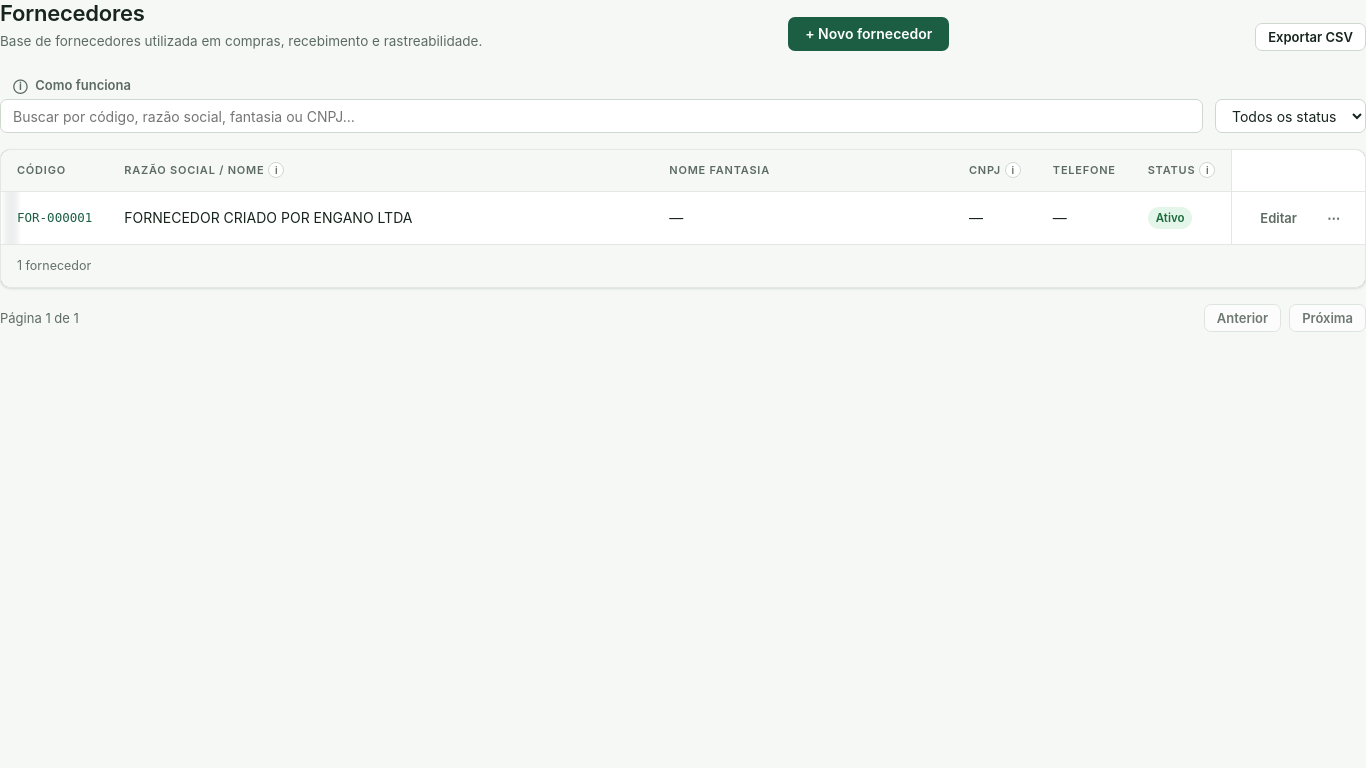
Test: Administrador › bloqueado: mostra o porquê e a saída abre o Inativar de sempre
expect the text "FOR-000001" is shown: met, box [1,192,108,244]
Click the button named "Mais ações de FOR-000001" at (1334, 218), box [1318,204,1349,232]
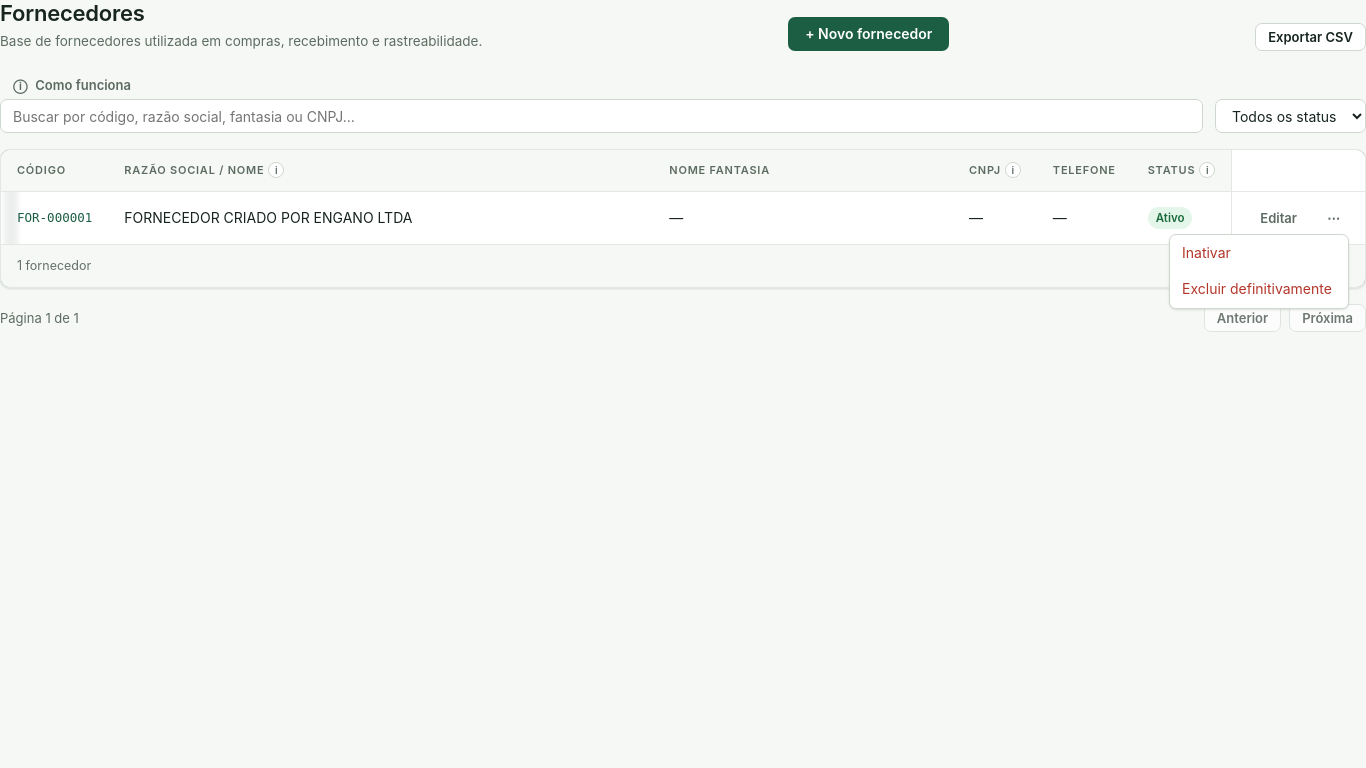
Click the menu item "Excluir definitivamente" at (1259, 289), box [1170,271,1348,308]
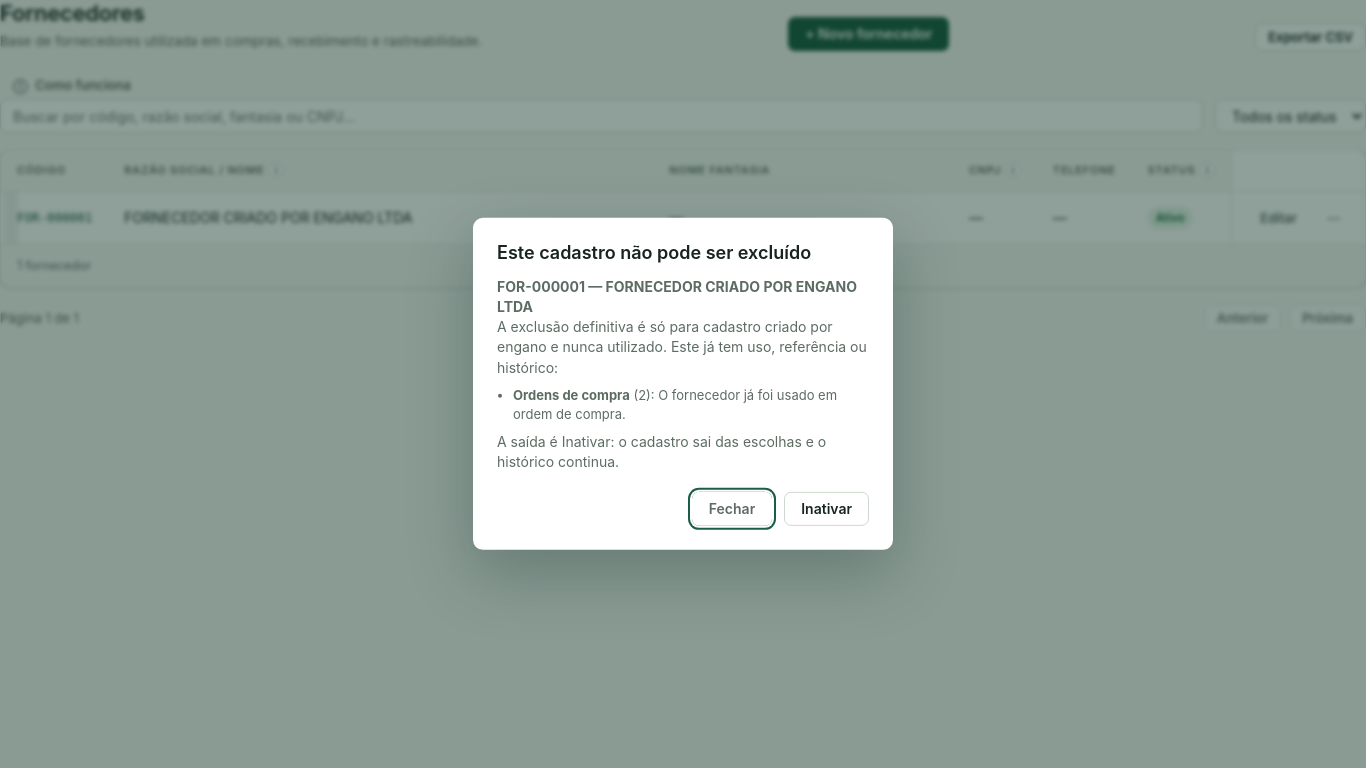
expect the text "Ordens de compra" is shown: met, box [513,387,630,403]
expect the menu item "Excluir definitivamente" is gone: met
Click the button "Inativar" at (827, 509), box [784,492,869,526]
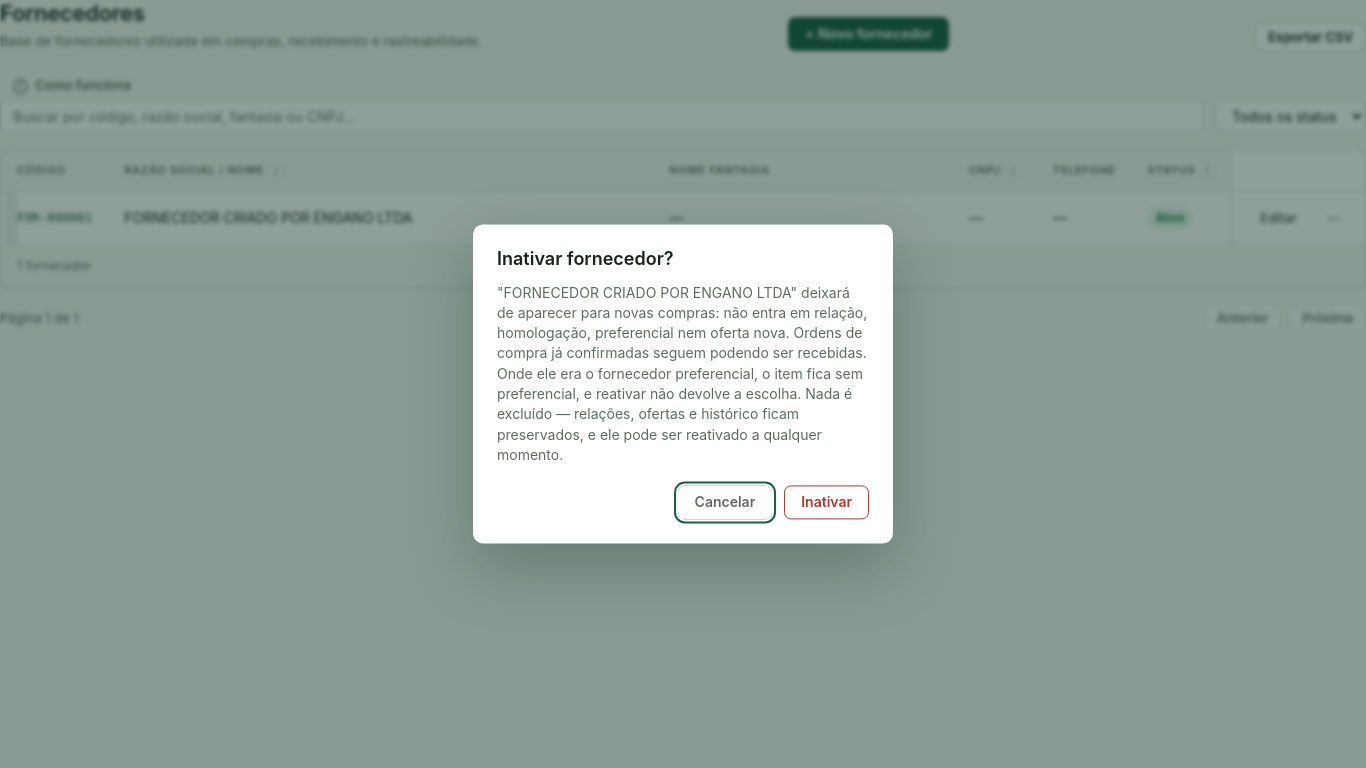
expect the heading "Inativar fornecedor?" is shown: met, box [497,248,674,269]
